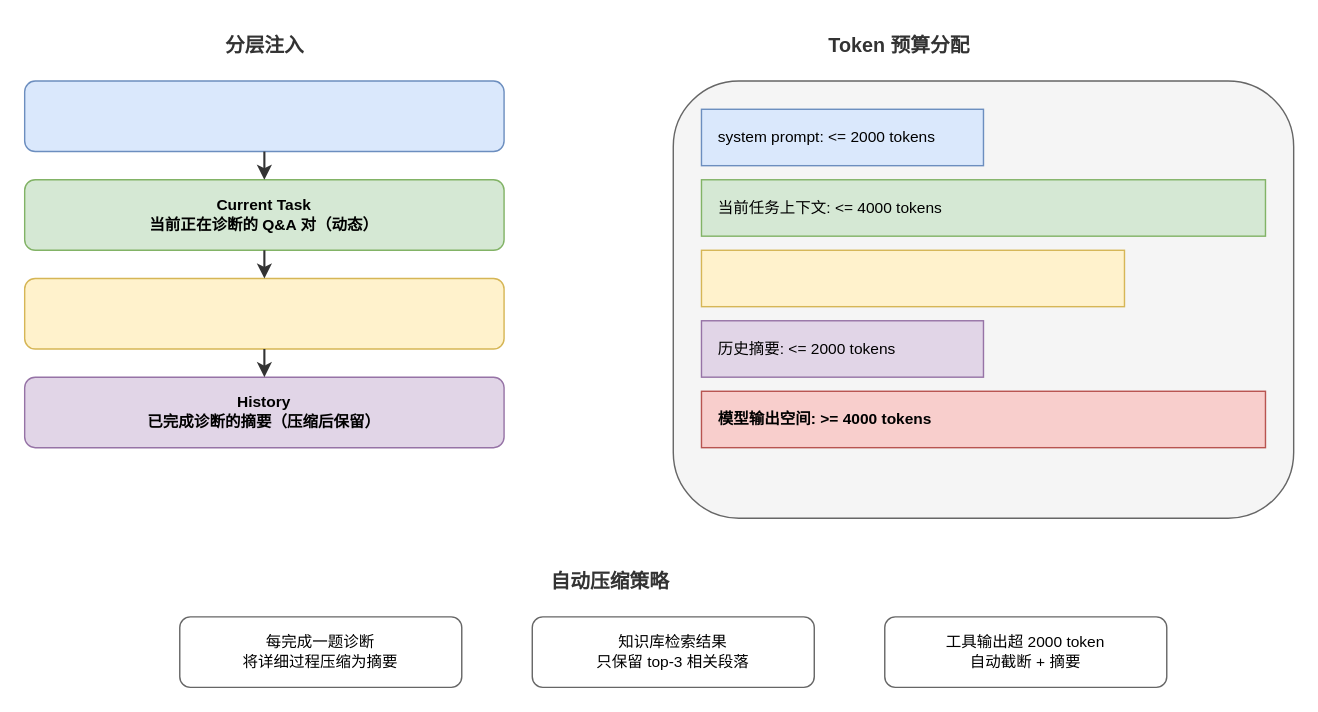
This 1318x712 diagram has some shape labels left out. Each missing label, with the centre of its shape:
"Reference 该题对应的知识库参考（按需加载）" goes at (x=263, y=313).
"System Prompt 诊断标准 + 评分维度（固定）" goes at (x=263, y=116).
"参考资料: <= 3000 tokens" goes at (x=912, y=278).
